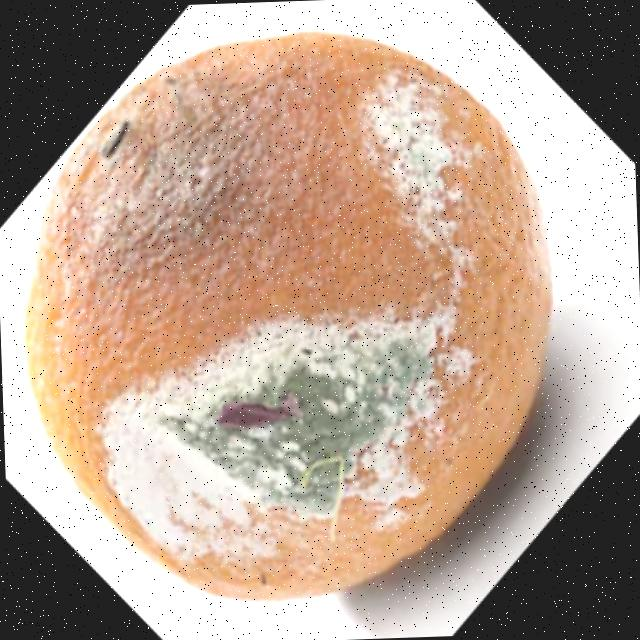Rotten: (9, 22, 566, 610)
